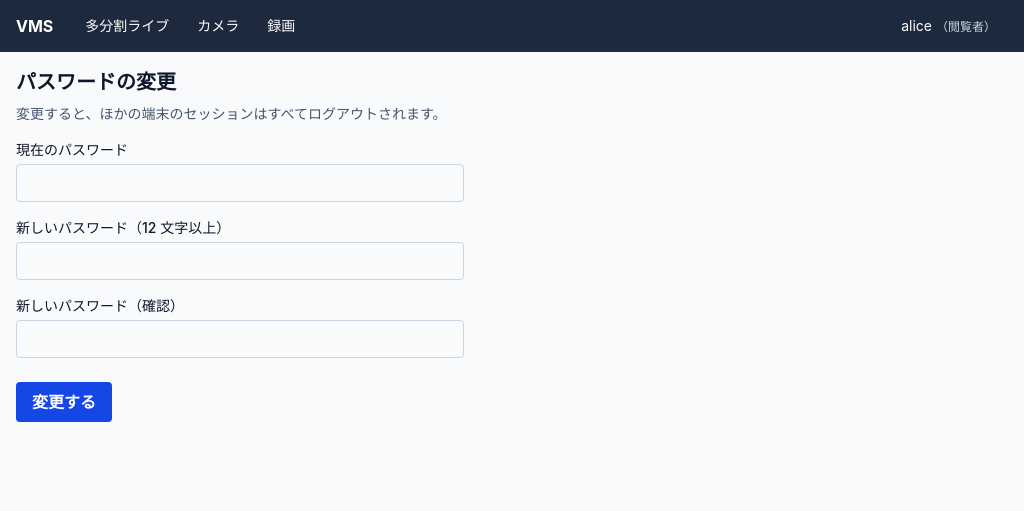
Scenario: password change › reports a wrong current password
Expected: the heading "パスワードの変更" is shown, x1=16 y1=70 x2=176 y2=94
Type "wrong" into the password field labelled "現在のパスワード" at {"x": 240, "y": 183}, box x1=16 y1=164 x2=464 y2=202
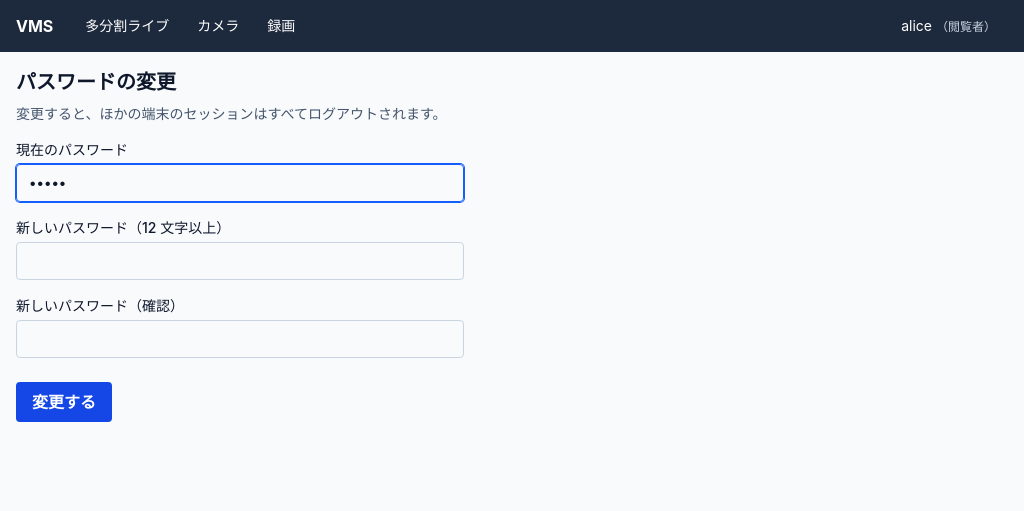
Type "new password 123" into the password field labelled "新しいパスワード（12 文字以上）" at {"x": 240, "y": 261}, box x1=16 y1=242 x2=464 y2=280
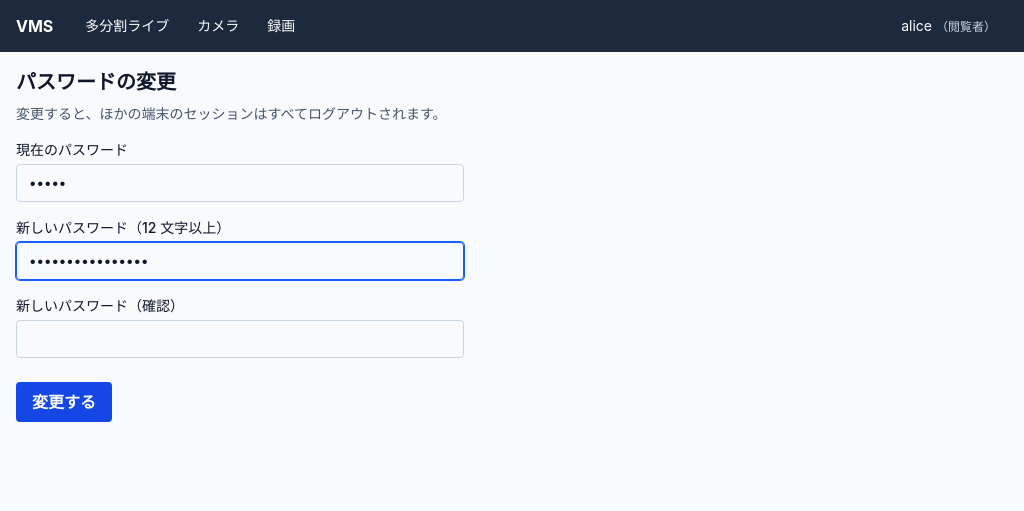
Type "new password 123" into the password field labelled "新しいパスワード（確認）" at {"x": 240, "y": 339}, box x1=16 y1=320 x2=464 y2=358
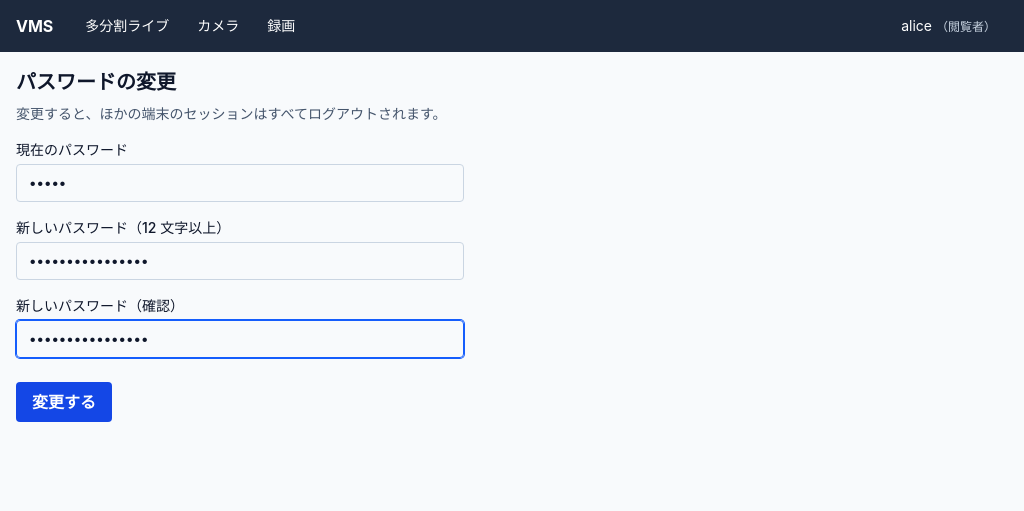
Click the button "変更する" at {"x": 64, "y": 402}, box x1=16 y1=382 x2=112 y2=422
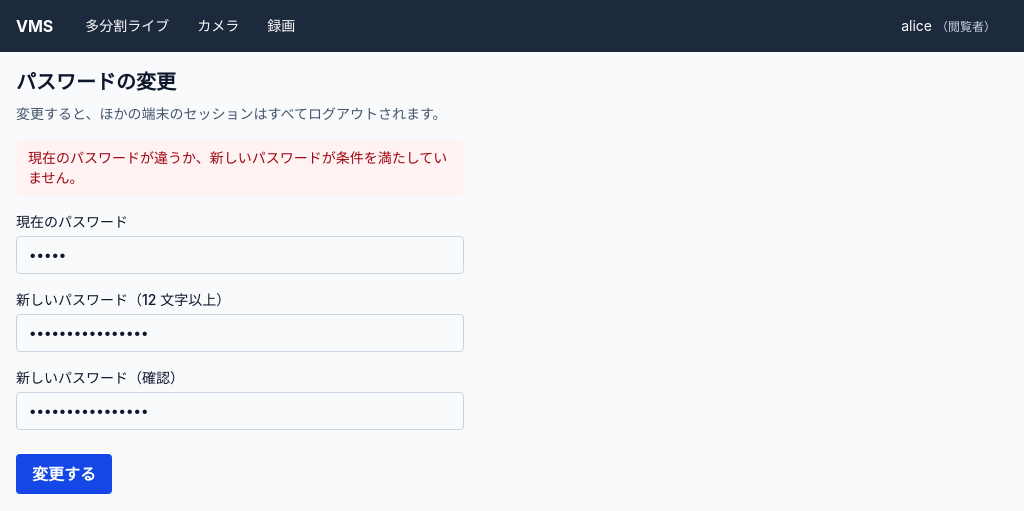
Now the message shows "現在のパスワードが違う", box x1=28 y1=149 x2=447 y2=186
